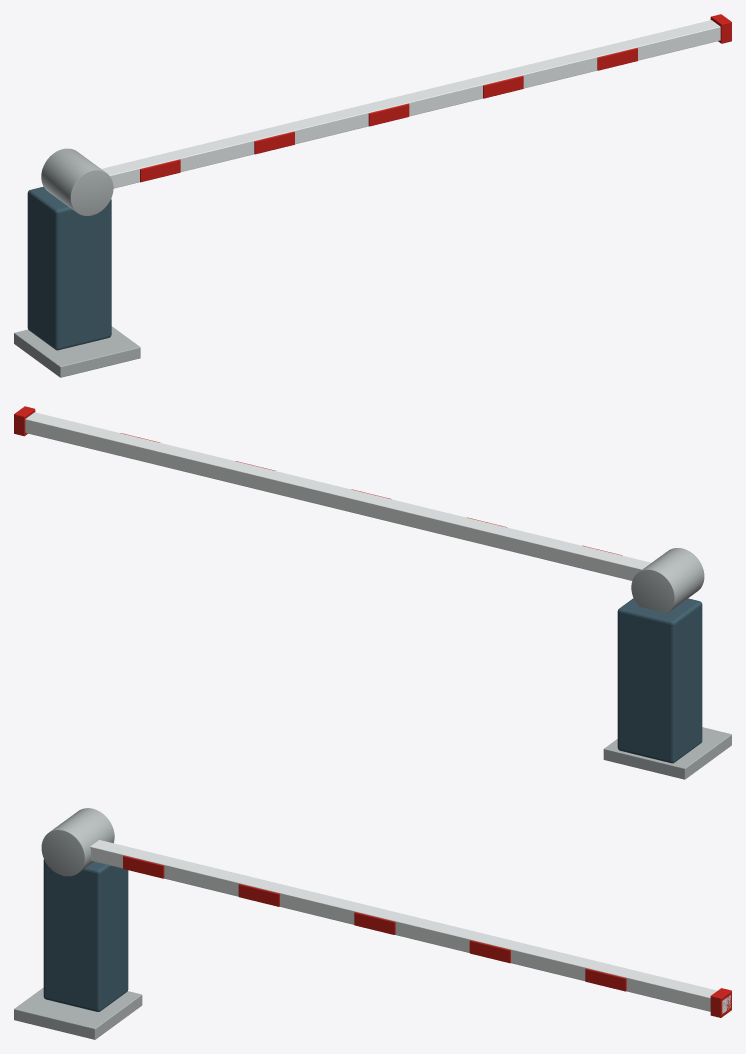
File: road_barrier.glb
The picture shows the model from 3 angles, top to bottom: view 1: azimuth 30°, elevation 25°; view 2: azimuth 150°, elevation 25°; view 3: azimuth 330°, elevation 25°; orthographic projection.
Visible parts, largest first — view 1: GATE_cabinet, KIN_gate_arm, GATE_hinge, GATE_base, KIN_gate_red_mark_2; view 2: KIN_gate_arm, GATE_cabinet, GATE_hinge, GATE_base; view 3: KIN_gate_arm, GATE_cabinet, GATE_base, GATE_hinge, KIN_gate_red_mark_2, KIN_gate_red_mark_0, KIN_gate_red_mark_1, KIN_gate_red_mark_4, KIN_gate_red_mark_3, KIN_gate_end.
Boxes of the visible parts, x1,y1,x2,y2 form: GATE_cabinet: [27, 186, 111, 350]; KIN_gate_arm: [101, 20, 720, 188]; GATE_hinge: [41, 148, 113, 215]; GATE_base: [14, 326, 140, 377]; KIN_gate_red_mark_2: [368, 103, 409, 126]; KIN_gate_arm: [25, 412, 651, 580]; GATE_cabinet: [617, 598, 702, 763]; GATE_hinge: [631, 548, 704, 613]; GATE_base: [603, 727, 731, 779]; KIN_gate_arm: [90, 840, 730, 1013]; GATE_cabinet: [43, 859, 128, 1011]; GATE_base: [14, 987, 142, 1039]; GATE_hinge: [41, 808, 114, 876]; KIN_gate_red_mark_2: [354, 912, 395, 934]; KIN_gate_red_mark_0: [123, 855, 164, 878]; KIN_gate_red_mark_1: [238, 884, 279, 906]; KIN_gate_red_mark_4: [585, 968, 626, 991]; KIN_gate_red_mark_3: [469, 940, 510, 963]; KIN_gate_end: [710, 988, 731, 1017].
Bounding box in the file's own units: 5.1 × 1.36 × 0.6.
